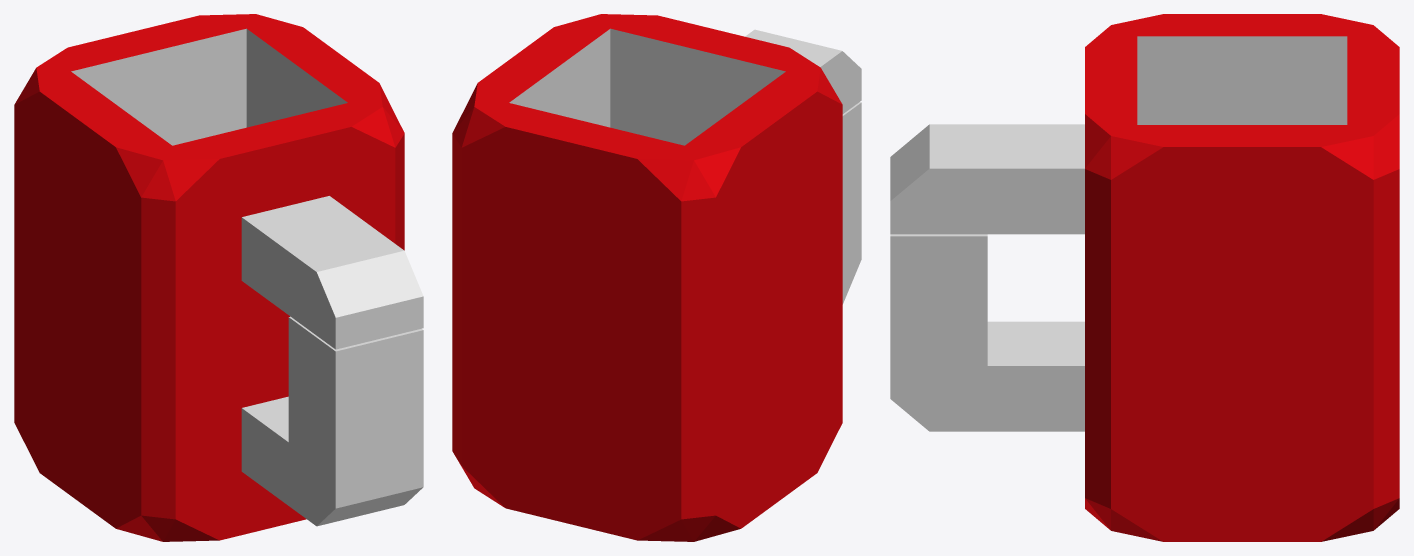
File: Red Mug.glb
The picture shows the model from 3 angles, left to right: view 1: azimuth 30°, elevation 25°; view 2: azimuth 150°, elevation 25°; view 3: azimuth 270°, elevation 25°; orthographic projection. The views are drawn at different scales.
Visible parts, largest first — view 1: Cube; view 2: Cube; view 3: Cube.
Boxes of the visible parts, x1,y1,x2,y2 form: Cube: [14, 14, 423, 541]; Cube: [452, 14, 861, 541]; Cube: [890, 14, 1399, 541].
Size of the model in its own units: 8.24 by 11.4 by 13.33.
